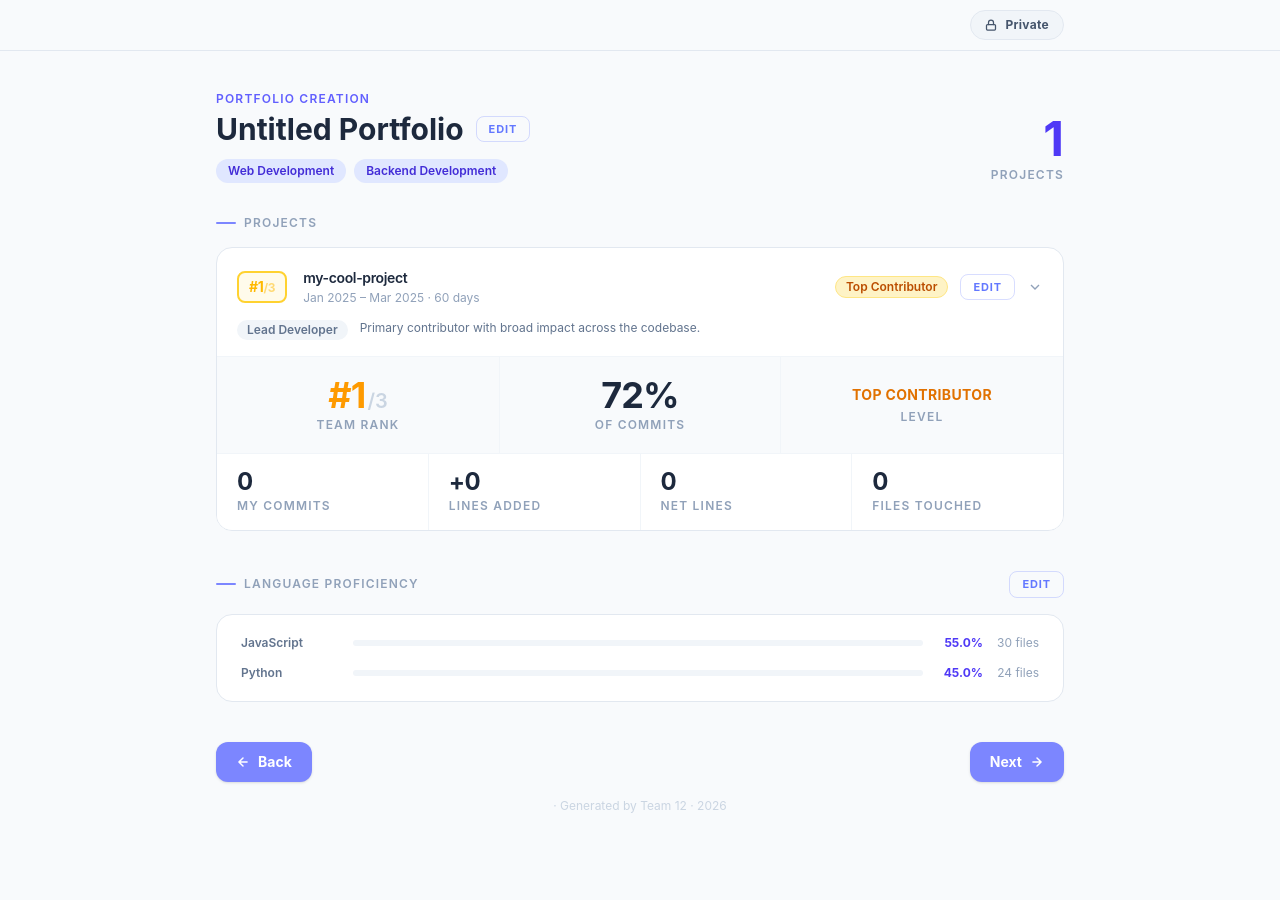
Test: Portfolio — edit projects › saves updated project name
This screenshot has width=1280, height=900.
Expected: the heading "Untitled Portfolio" is shown, [216, 111, 464, 147]
Click the button with aria-label "Edit project 0" at (988, 287), box [960, 274, 1015, 300]
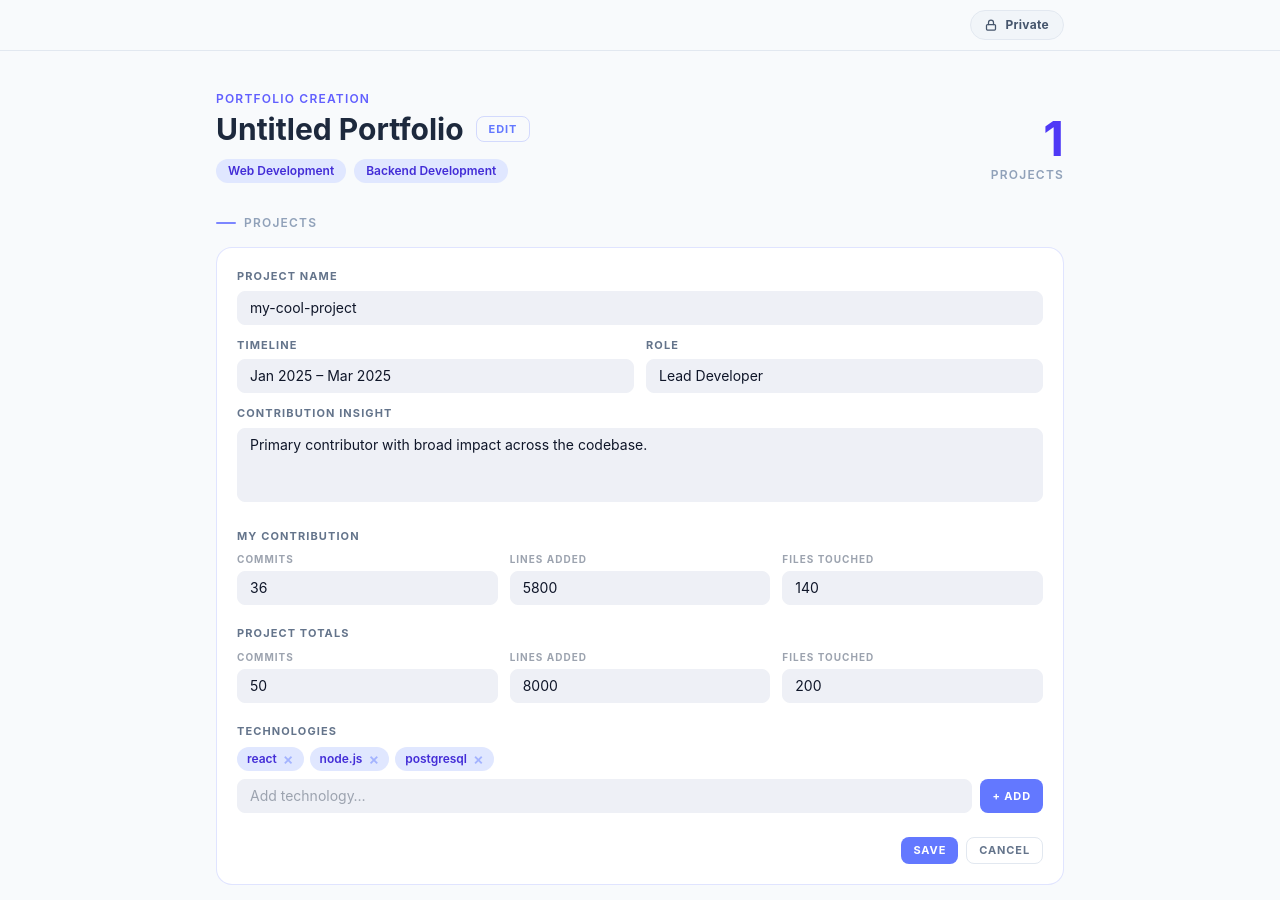
Replace the text in the field showing "my-cool-project" below "Project Name" with "renamed-project" at (640, 308), box [237, 290, 1043, 324]
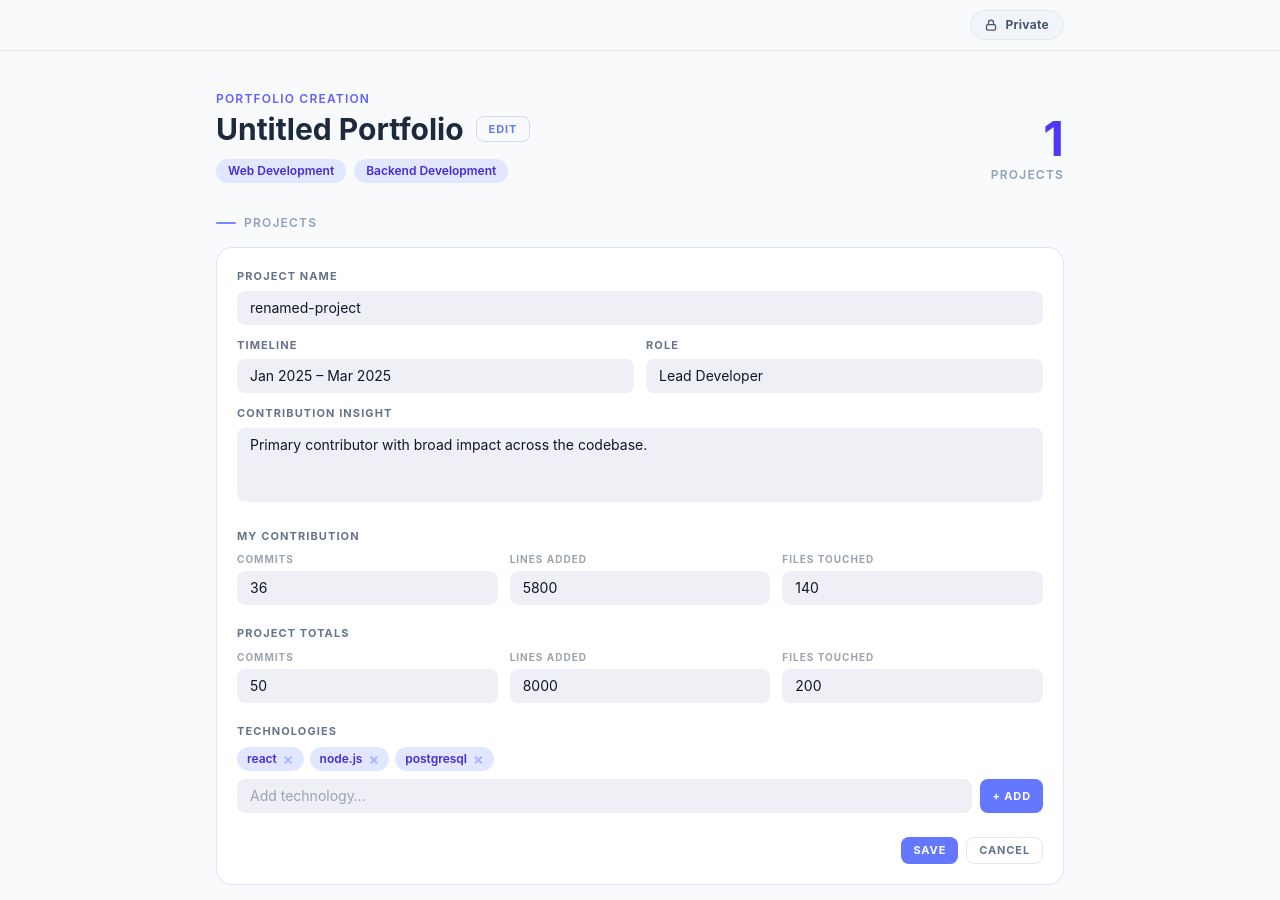
Click the button with aria-label "Save project 0" at (930, 850), box [901, 837, 958, 864]
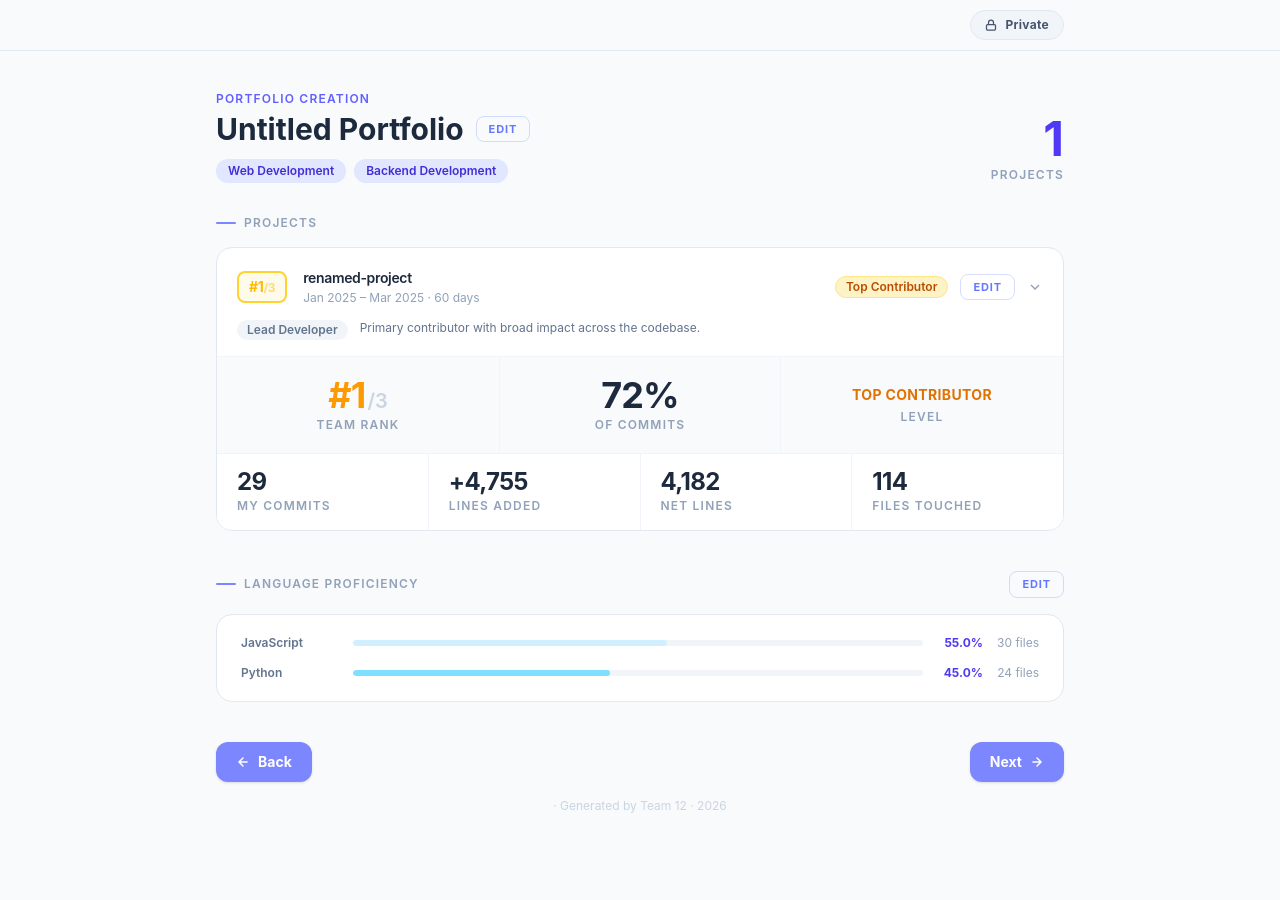
Result: the text "renamed-project" is shown at [303, 269, 412, 286]
